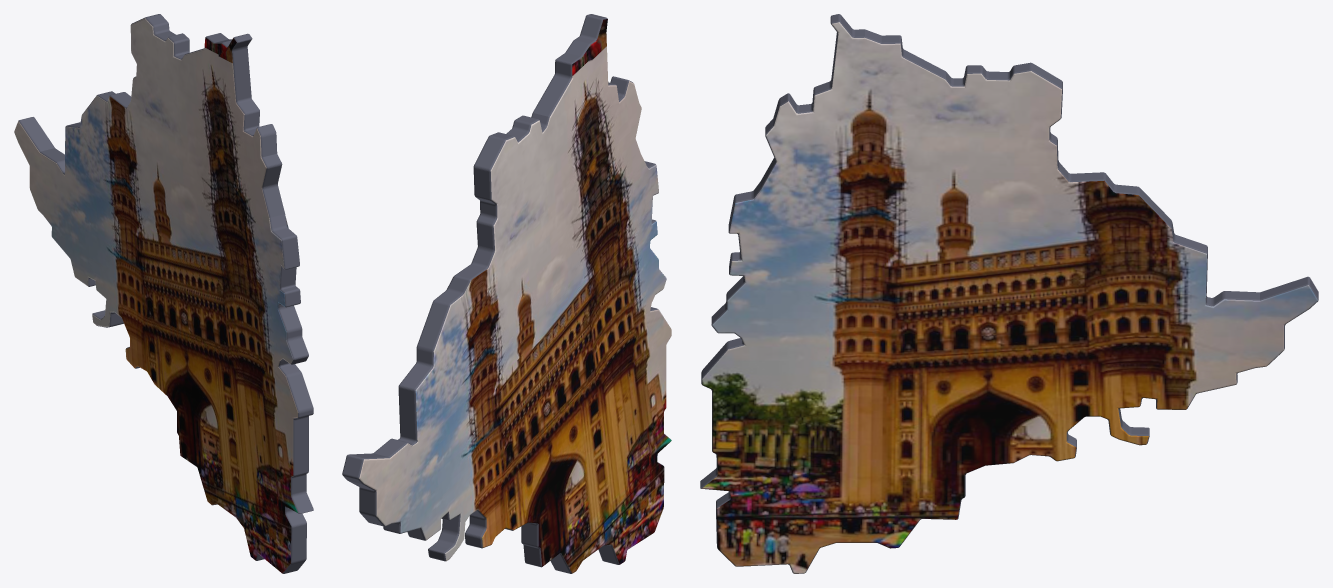
The model's file is telangana.glb.
3 renders of one model, left to right at view 1: azimuth 30°, elevation 25°; view 2: azimuth 150°, elevation 25°; view 3: azimuth 270°, elevation 25°, orthographic. The views are drawn at different scales.
Visible parts, largest first — view 1: Object_38; view 2: Object_38; view 3: Object_38.
Boxes of the visible parts, x1=… form: Object_38: x1=14, y1=14, x2=313, y2=573; Object_38: x1=342, y1=14, x2=671, y2=573; Object_38: x1=700, y1=14, x2=1318, y2=573.
Bounding box in the file's own units: 0.0289 × 0.6781 × 0.6882.
Materials: 1 (1 with a texture image).
